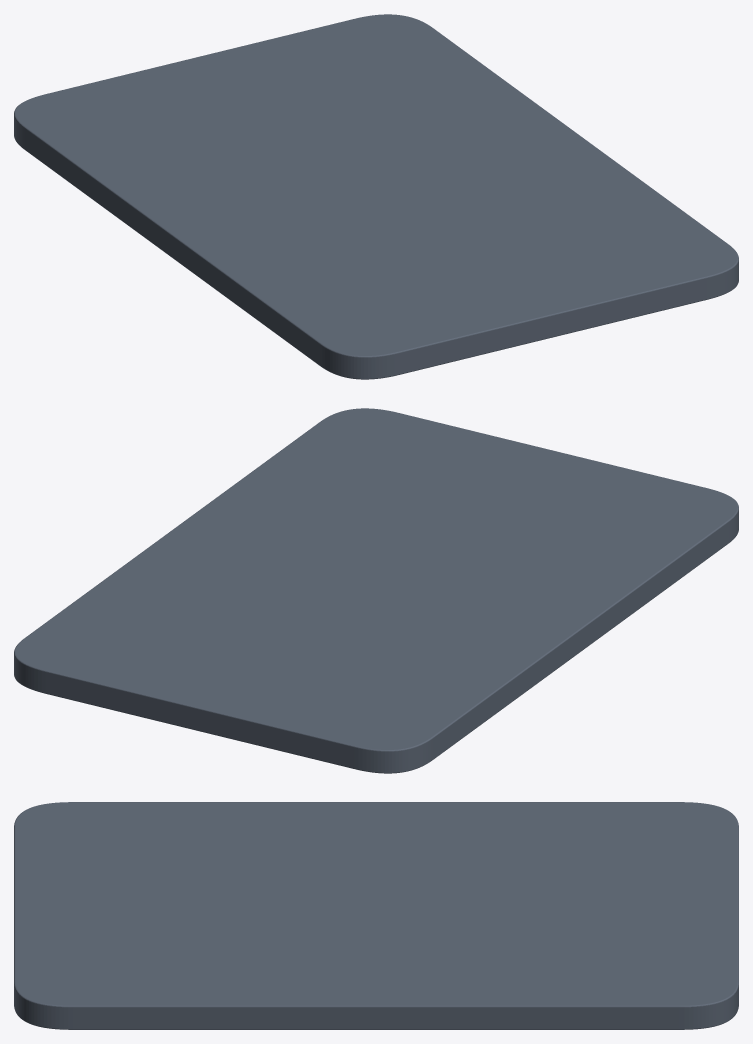
The model's file is rect-plate-proxy-v2-80x120x4-plastic-abs.glb.
The picture shows the model from 3 angles, top to bottom: view 1: azimuth 30°, elevation 25°; view 2: azimuth 150°, elevation 25°; view 3: azimuth 270°, elevation 25°; orthographic projection. The views are drawn at different scales.
Parts seen in each view (by area): view 1: flat_item_body; view 2: flat_item_body; view 3: flat_item_body.
Boxes of the visible parts, left/top/right/bottom form: flat_item_body: left=14, top=14, right=738, bottom=379; flat_item_body: left=14, top=408, right=738, bottom=773; flat_item_body: left=14, top=802, right=738, bottom=1029.
Size of the model in its own units: 80.48 by 4.4 by 120.
